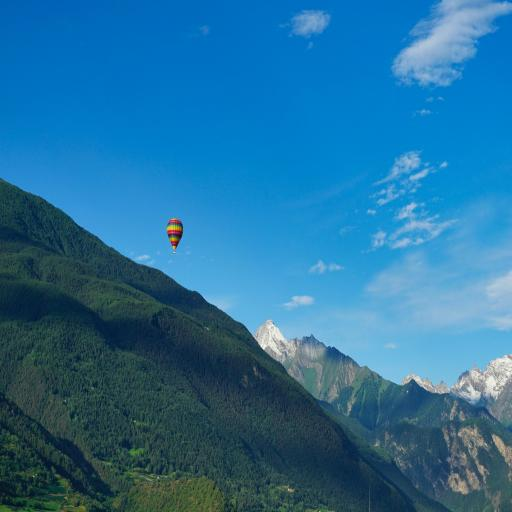hot air ballon: (167, 215, 184, 255)
